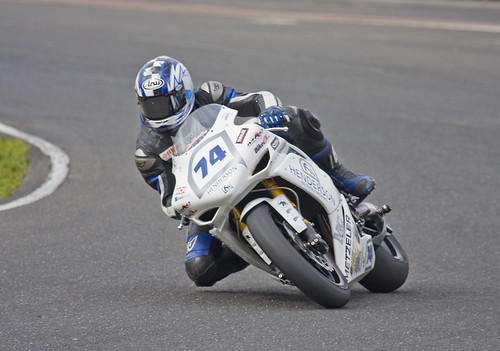helmet: (131, 52, 196, 130)
